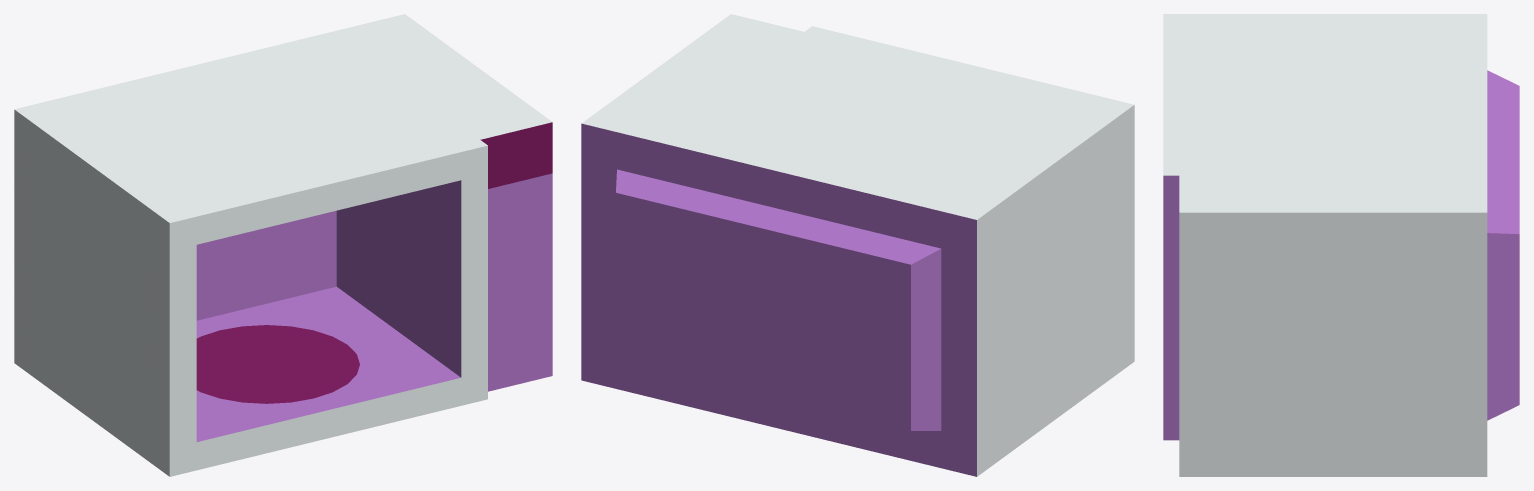
File: kitchenMicrowave.glb
3 views of the same model, side by side, from view 1: azimuth 30°, elevation 25°; view 2: azimuth 150°, elevation 25°; view 3: azimuth 270°, elevation 25° (orthographic). The views are drawn at different scales.
Visible parts, largest first — view 1: kitchenMicrowave; view 2: kitchenMicrowave; view 3: kitchenMicrowave.
Boxes of the visible parts, x1,y1,x2,y2 form: kitchenMicrowave: [14, 14, 552, 476]; kitchenMicrowave: [581, 14, 1134, 476]; kitchenMicrowave: [1163, 14, 1519, 476].
Bounding box in the file's own units: 0.5208 × 0.3232 × 0.3951.
